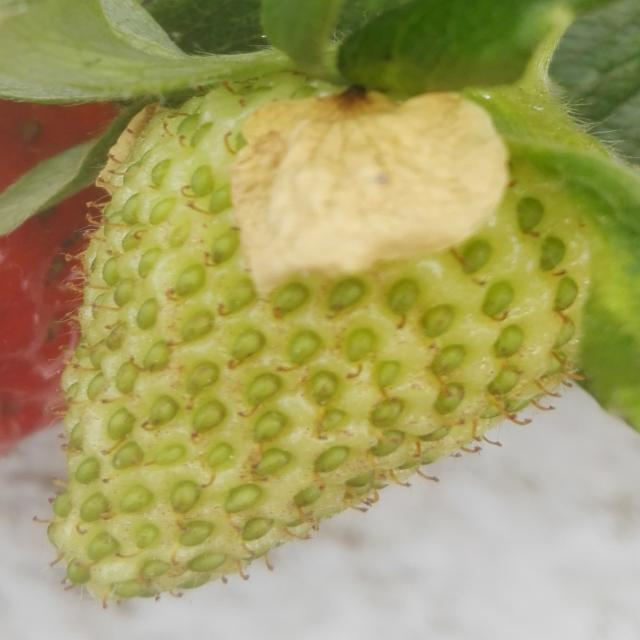Strawberry: (43, 38, 594, 604), (0, 79, 127, 456)
